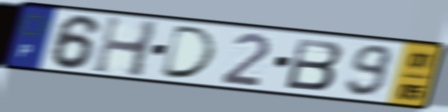2: (219, 30, 274, 89)
6: (51, 13, 102, 71)
9: (343, 43, 395, 98)
B: (283, 36, 345, 93)
D: (157, 24, 219, 81)
H: (89, 13, 162, 80)
